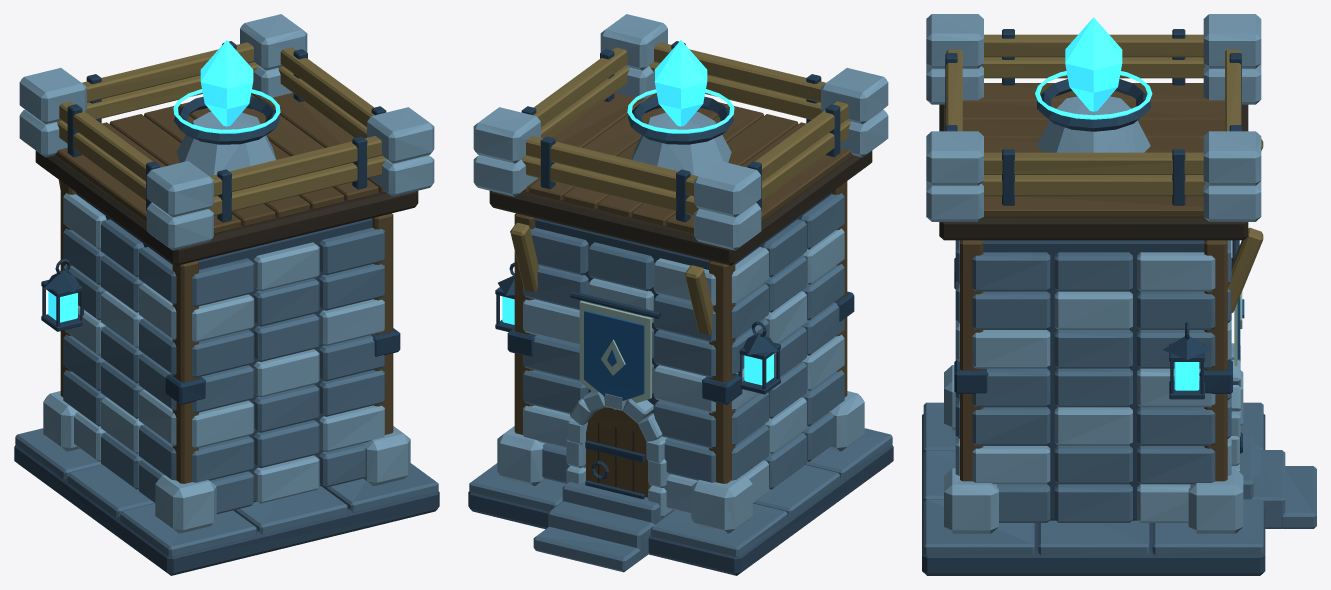
File: tower_mage_level_2.glb
The picture shows the model from 3 angles, left to right: view 1: azimuth 30°, elevation 25°; view 2: azimuth 150°, elevation 25°; view 3: azimuth 270°, elevation 25°; orthographic projection. The views are drawn at different scales.
Visible parts, largest first — view 1: body, focus_crystal, charge_ring; view 2: body, focus_crystal, charge_ring; view 3: body, focus_crystal, charge_ring.
Boxes of the visible parts, x1,y1,x2,y2 form: body: (14, 14, 439, 575); focus_crystal: (200, 40, 253, 126); charge_ring: (173, 89, 280, 133); body: (468, 14, 893, 575); focus_crystal: (654, 40, 707, 126); charge_ring: (627, 89, 734, 133); body: (922, 14, 1316, 575); focus_crystal: (1065, 17, 1122, 111); charge_ring: (1035, 71, 1152, 119).
Bounding box in the file's own units: 2.58 × 3.93 × 2.88.
